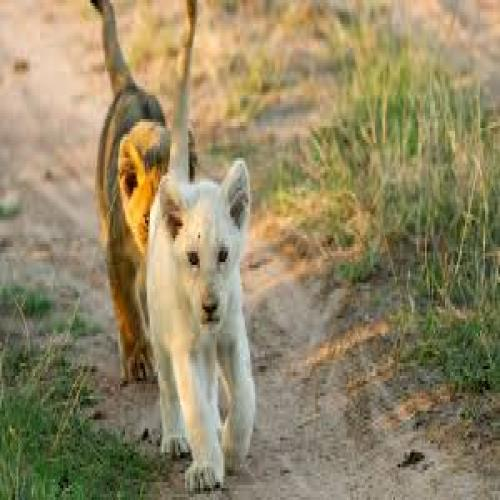lion-endangered: (147, 0, 256, 488), (90, 0, 192, 375)
